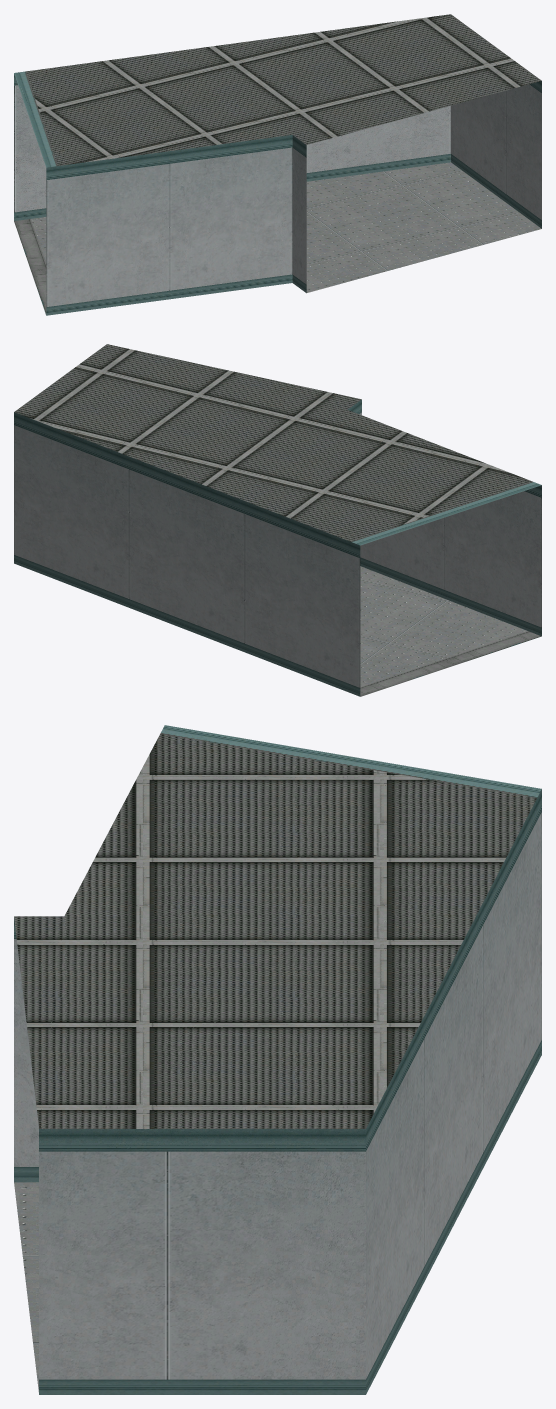
Rendered from mun_all_cloning_s01_r6_foyerb_mesh_foyerb.fbx.
3 views of the same model, one above another, from view 1: azimuth 30°, elevation 25°; view 2: azimuth 150°, elevation 25°; view 3: azimuth 270°, elevation 25° (orthographic). The views are drawn at different scales.
Parts seen in each view (by area): view 1: mesh_node; view 2: mesh_node; view 3: mesh_node.
Part boxes in pixels (x1,y1,x2,y2): mesh_node: [14, 14, 541, 315]; mesh_node: [14, 344, 541, 696]; mesh_node: [14, 725, 541, 1394].
Bounding box in the file's own units: 9.5 × 2.92 × 5.25.
